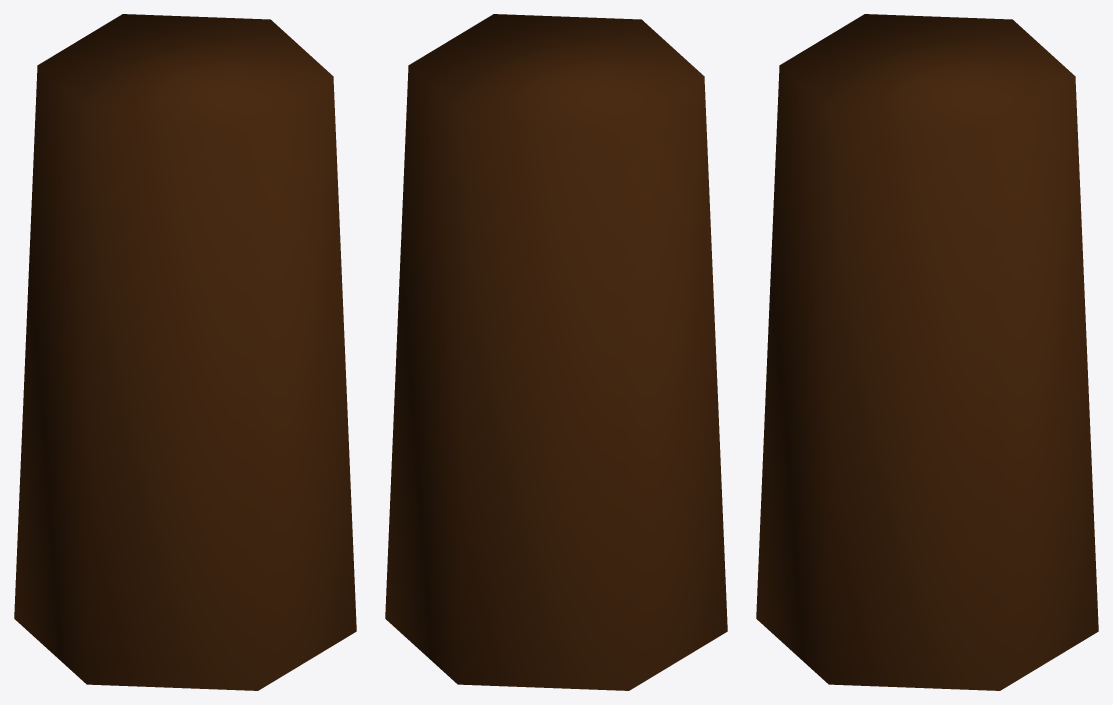
File: stump.fbx
The picture shows the model from 3 angles, left to right: view 1: azimuth 30°, elevation 25°; view 2: azimuth 150°, elevation 25°; view 3: azimuth 270°, elevation 25°; orthographic projection.
Parts seen in each view (by area): view 1: stump; view 2: stump; view 3: stump.
Boxes of the visible parts, <box> form: stump: <box>14,14,356,690</box>; stump: <box>385,14,727,690</box>; stump: <box>756,14,1098,690</box>.
Bounding box in the file's own units: 86.14 × 169 × 94.66.
